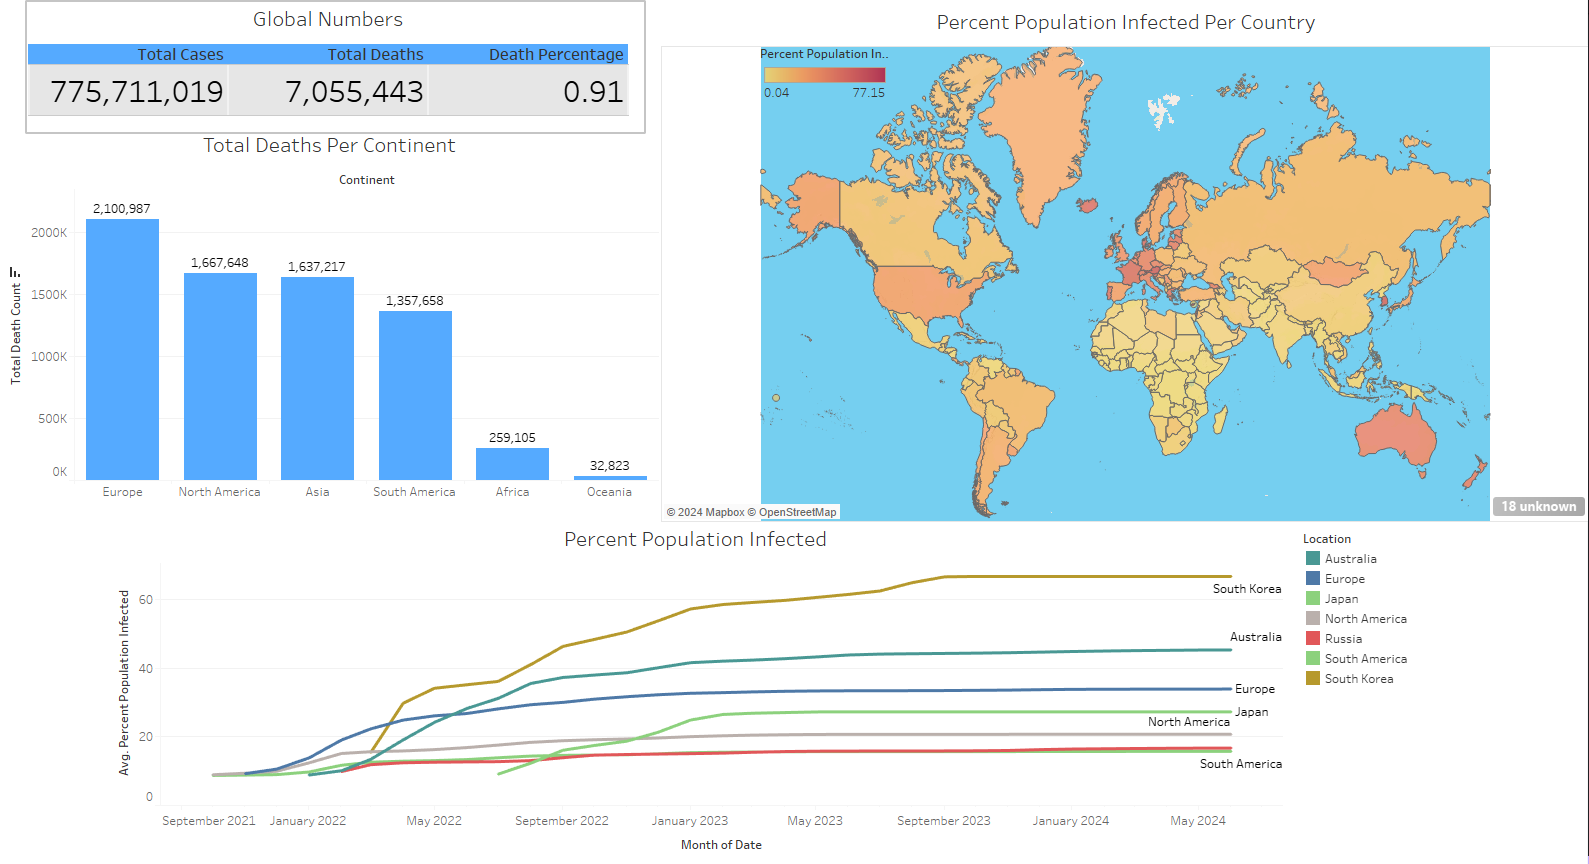

What the dashboard file says about the page in this screenshot:
{"tool":"tableau","page":{"name":"Dashboard 1","canvas":[1000,1000],"units":"permille","ordinal":0},"visuals":[{"type":"legend","title":"Sheet 2","param":"[federated.0z674qq13z61o5100546n146jyh7].[none:member_casual:nk]","box":[896.9,9.3,98.2,76.4]},{"type":"legend","title":"Sheet 2 (3)","param":"[federated.0z674qq13z61o5100546n146jyh7].[none:rideable_type:nk]","box":[896.9,85.7,98.2,99.5]},{"type":"worksheet","title":"Sheet 5","mark":"Automatic","box":[0.6,104.2,466.9,78.7]},{"type":"worksheet","title":"Sheet 2 (2)","mark":"Automatic","cols":["start_month","member_casual (ride_freq_by_month.csv)"],"box":[1.2,187.5,333.7,333.3]},{"type":"worksheet","title":"Sheet 1","mark":"Automatic","rows":["ride_length"],"cols":["start_day"],"box":[351.5,215.3,333.1,652.8]},{"type":"worksheet","title":"Sheet 2 (3)","mark":"Bar","rows":["bike_copy.csv_EBE494B1CB3E4616A1CF21210F9C8215"],"cols":["rideable_type"],"box":[696.9,254.6,214.1,605.3]},{"type":"worksheet","title":"Sheet 2","mark":"Automatic","rows":["total_rides (ride_freq_by_day.csv)"],"cols":["day_of_week","member_casual"],"box":[0.6,534.7,335.6,333.3]}]}

Visuals, with their boxes on the dashboard's canvas, which has no fixed pixel size, in thousandths of its width and height (x1, y1, x2, y2). These are canvas units, not pixel positions in the 1589x864 screenshot, which may show the page scaled, cropped or inside an application window:
"Sheet 2" legend: <region>897, 9, 995, 86</region>
"Sheet 2 (3)" legend: <region>897, 86, 995, 185</region>
"Sheet 5" worksheet: <region>1, 104, 468, 183</region>
"Sheet 2 (2)" worksheet: <region>1, 188, 335, 521</region>
"Sheet 1" worksheet: <region>352, 215, 685, 868</region>
"Sheet 2 (3)" worksheet (Bar marks): <region>697, 255, 911, 860</region>
"Sheet 2" worksheet: <region>1, 535, 336, 868</region>
